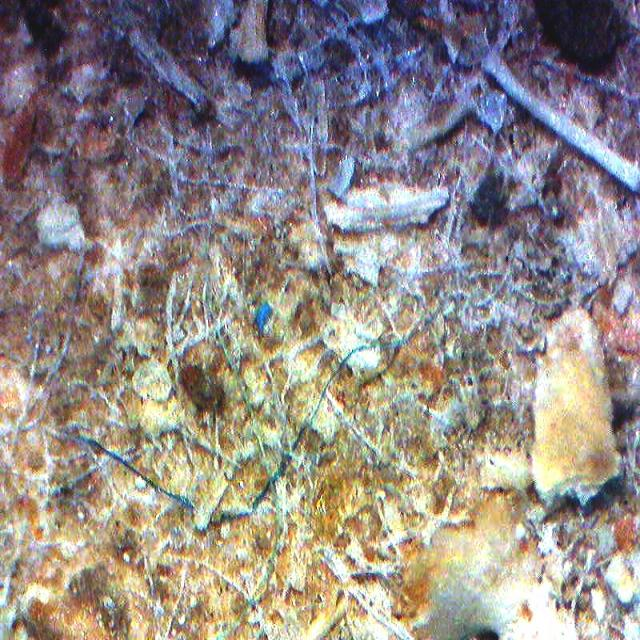microplastic: (212, 293, 470, 522), (72, 433, 198, 510), (252, 303, 274, 333)
